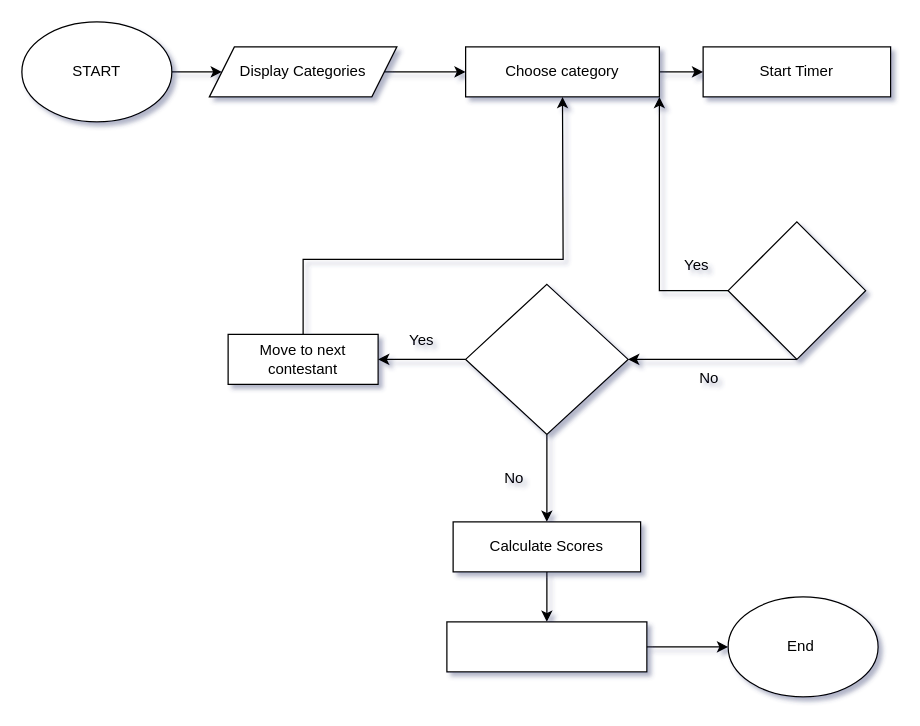
This 920x726 diagram has some shape labels left out. The shapes that lost their labels are listed below. From the top down, each one's centre as x and y in pixels, then its label:
At [796,290]: "Answer question correctly".
At [546,358]: "Is there time remaining to play".
At [546,646]: "Announce Winner".
